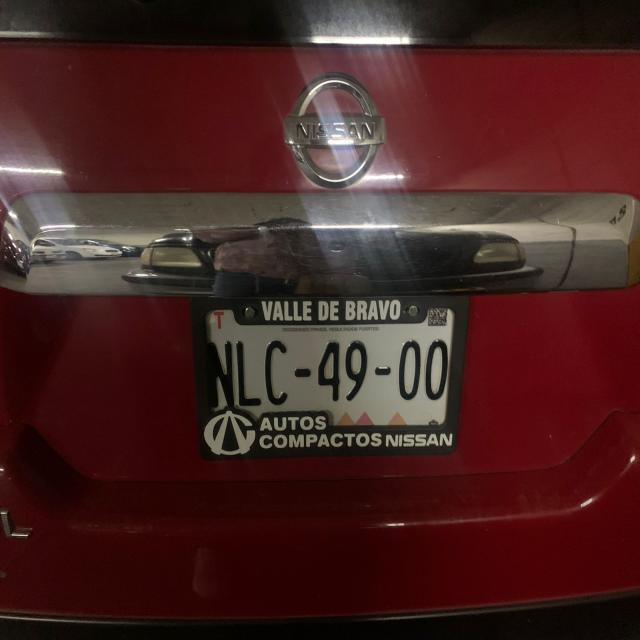placa: (202, 328, 450, 406)
